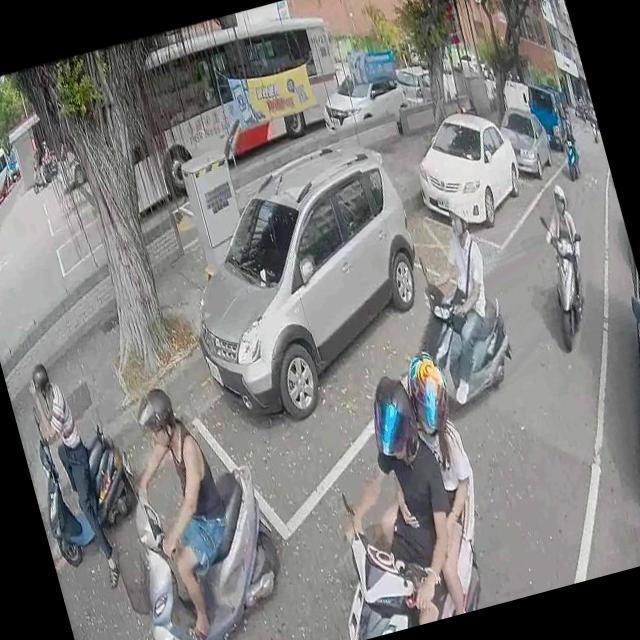person: (298, 363, 482, 640), (338, 344, 511, 628), (106, 369, 258, 640), (19, 354, 127, 598), (404, 188, 522, 410), (528, 181, 600, 327), (559, 120, 585, 178), (28, 142, 50, 187)
